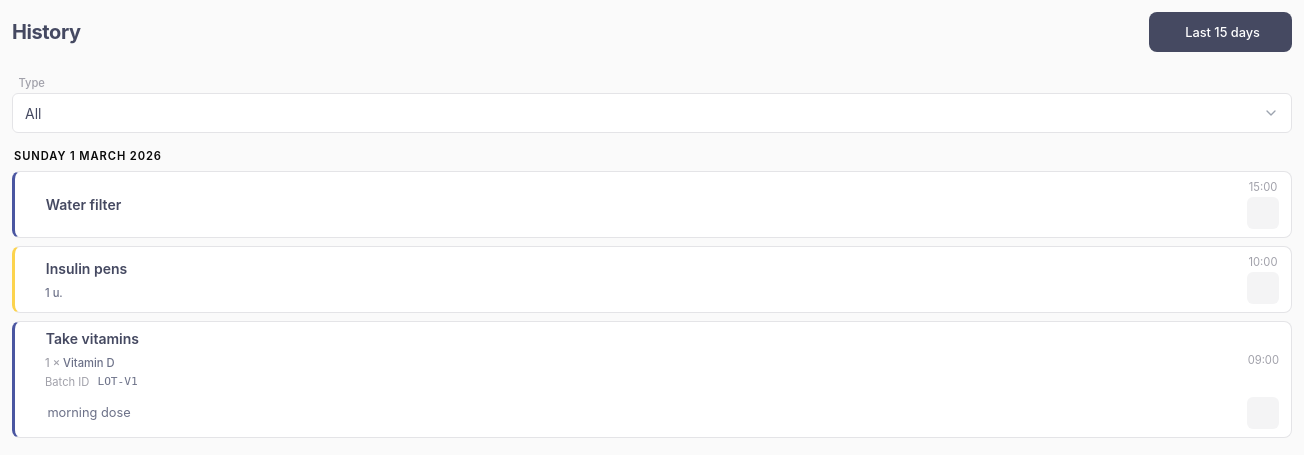
HistoryPage › renders routine filter dropdown when routines type is selected
The image size is (1304, 455).
Select "Routines" in the dropdown showing "All" at (652, 113), box [12,93,1292,133]
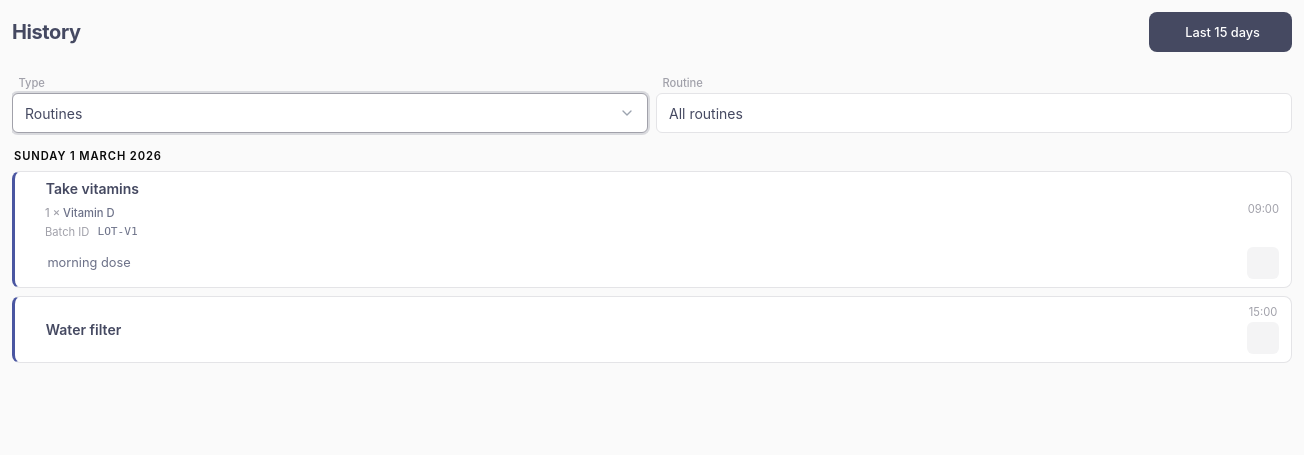
Now the dropdown showing "All routines" is shown, box [656,93,1292,133]
